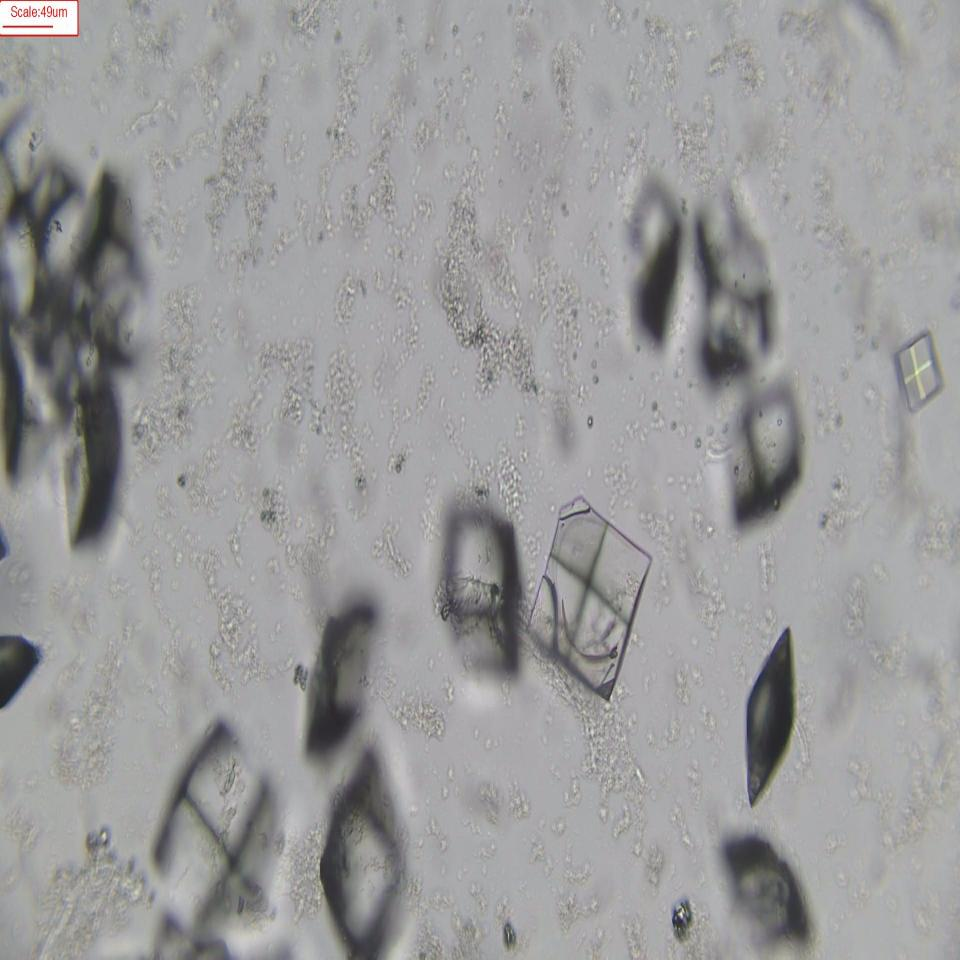crystal: (152, 720, 288, 939), (527, 491, 644, 692), (319, 759, 414, 953), (743, 624, 795, 817), (728, 391, 800, 522), (63, 394, 120, 540), (895, 330, 949, 414)
